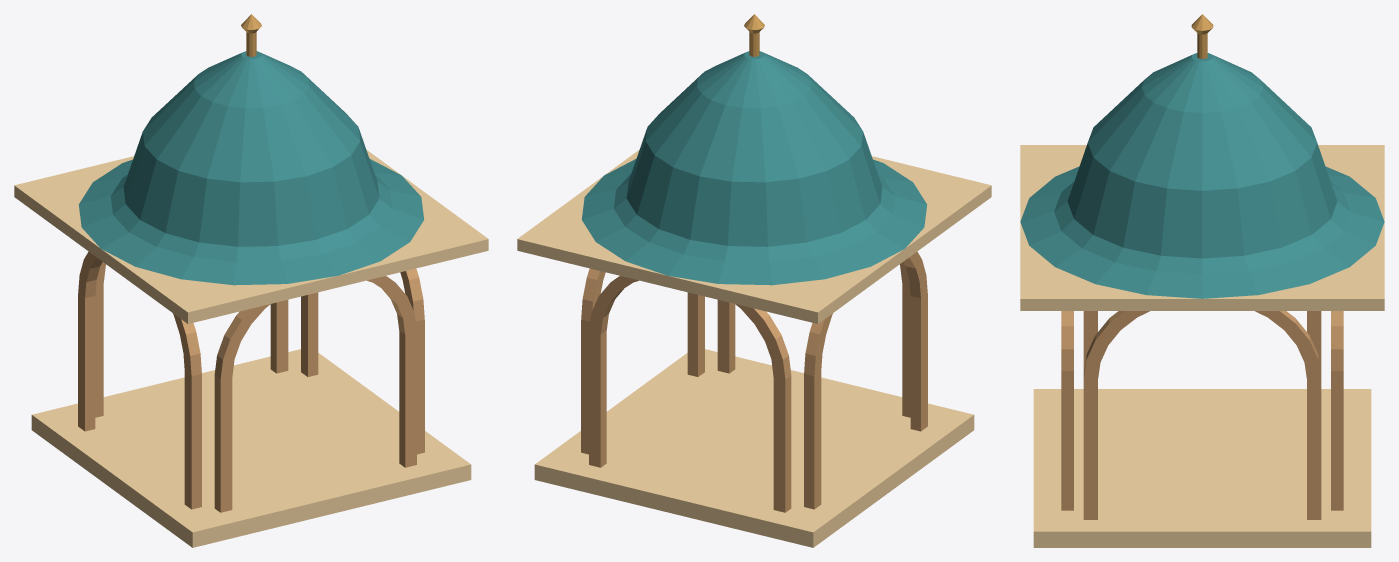
Rendered from oasis_pavilion.glb.
The picture shows the model from 3 angles, left to right: view 1: azimuth 30°, elevation 25°; view 2: azimuth 150°, elevation 25°; view 3: azimuth 270°, elevation 25°; orthographic projection. The views are drawn at different scales.
Parts seen in each view (by area): view 1: oasis_pavilion Carved warm limestone, oasis_pavilion Oxidised turquoise copper, oasis_pavilion Honey sandstone; view 2: oasis_pavilion Carved warm limestone, oasis_pavilion Oxidised turquoise copper, oasis_pavilion Honey sandstone; view 3: oasis_pavilion Carved warm limestone, oasis_pavilion Oxidised turquoise copper, oasis_pavilion Honey sandstone, oasis_pavilion Brass finials.
Part boxes in pixels (box(x1,y1,x2,y2)): oasis_pavilion Carved warm limestone: box(14, 150, 488, 547); oasis_pavilion Oxidised turquoise copper: box(78, 51, 424, 285); oasis_pavilion Honey sandstone: box(78, 251, 424, 512); oasis_pavilion Carved warm limestone: box(517, 150, 991, 547); oasis_pavilion Oxidised turquoise copper: box(581, 51, 927, 285); oasis_pavilion Honey sandstone: box(581, 251, 927, 512); oasis_pavilion Carved warm limestone: box(1020, 145, 1384, 547); oasis_pavilion Oxidised turquoise copper: box(1020, 53, 1384, 298); oasis_pavilion Honey sandstone: box(1061, 311, 1343, 519); oasis_pavilion Brass finials: box(1191, 14, 1213, 58).
Size of the model in its own units: 8.1 by 11.35 by 8.1.
